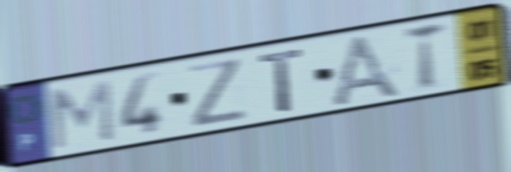4: (116, 70, 167, 138)
A: (325, 30, 405, 107)
M: (47, 76, 116, 152)
T: (401, 19, 449, 94), (257, 45, 307, 115)
Z: (186, 55, 251, 131)
